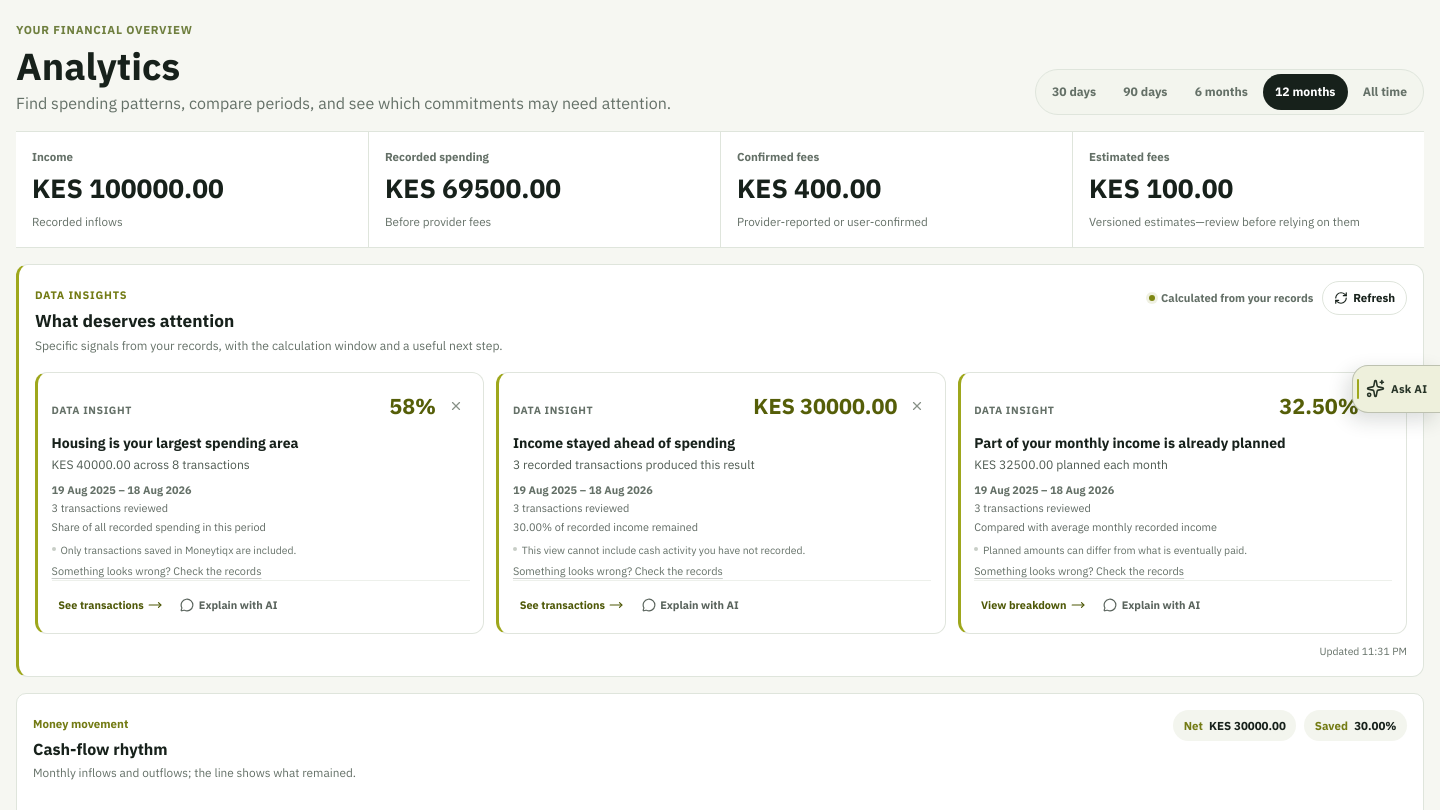
Analytics › turns an insight into an editable assistant question without submitting it
Expected: the heading "What deserves attention" is shown, [35,309,234,332]
Click the button "Explain with AI" below "KES 40000.00 across 8 transactions" at (229, 605), box [174,591,284,619]
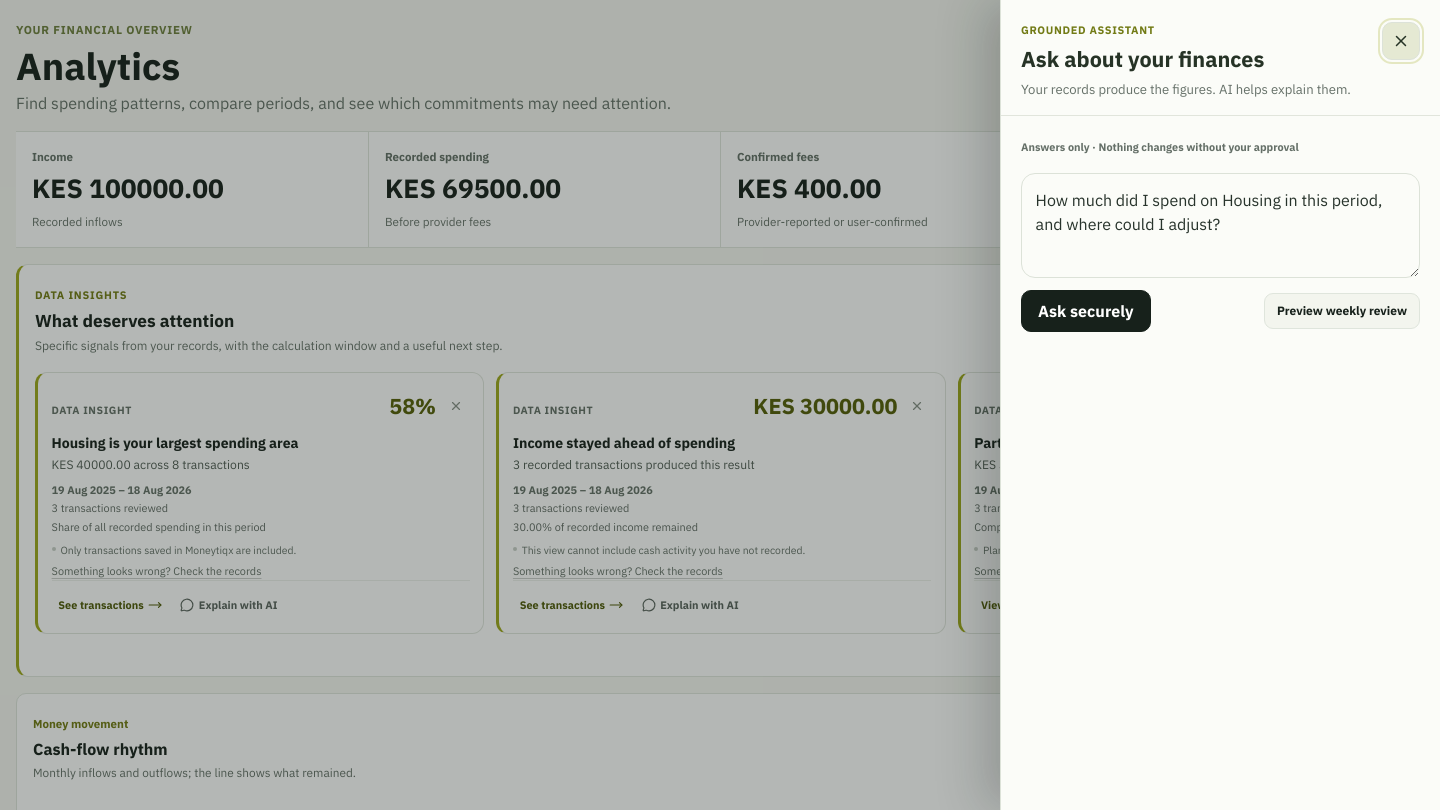
Now the dialog "Ask about your finances" is shown, box [1000,0,1439,809]
Now the text box named "Question about your finances" holds "How much did I spend on Housing in this period, and where could I adjust?", box [1021,173,1420,278]
